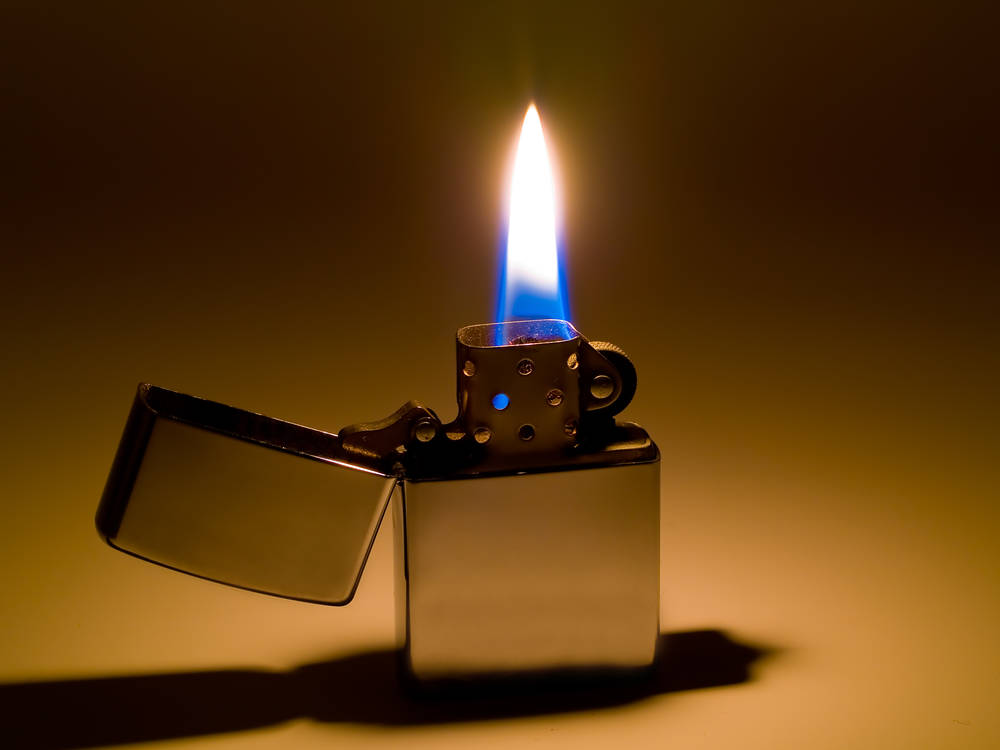Fire: (489, 99, 574, 345)
